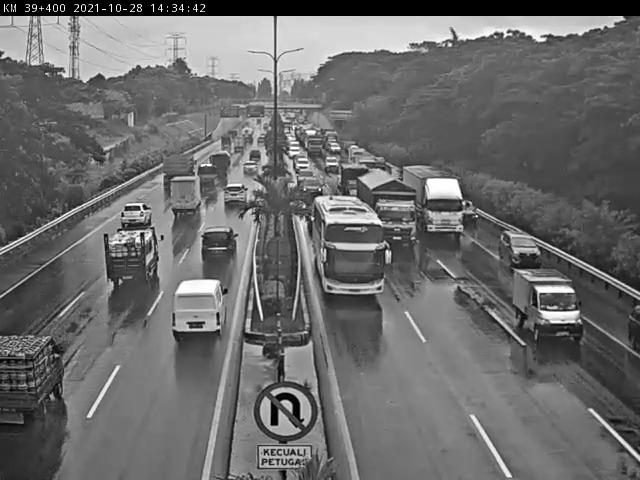big bus: (315, 204, 391, 297)
big truck: (368, 174, 416, 248), (419, 171, 465, 242)
car: (2, 329, 73, 432), (99, 223, 177, 302), (507, 271, 587, 347), (165, 267, 232, 357), (183, 225, 247, 290), (105, 193, 150, 247), (495, 228, 548, 272), (213, 172, 251, 220), (618, 291, 640, 354), (458, 202, 490, 235)
small truck: (160, 168, 205, 219)
